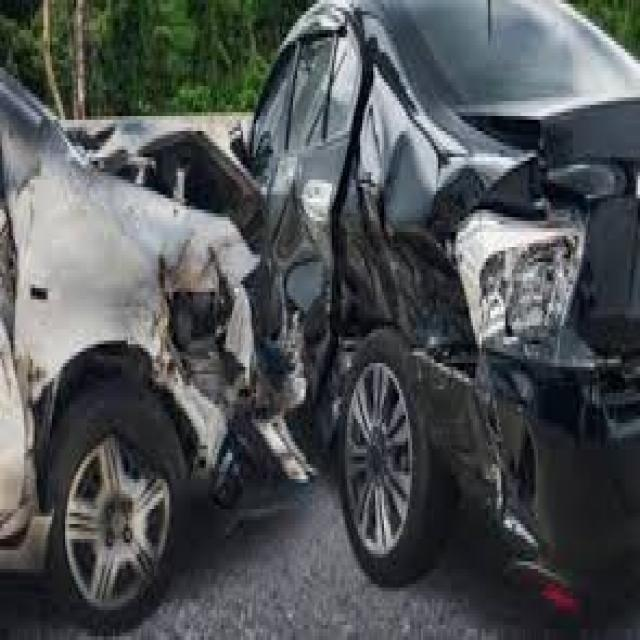accident: (0, 7, 630, 624)
